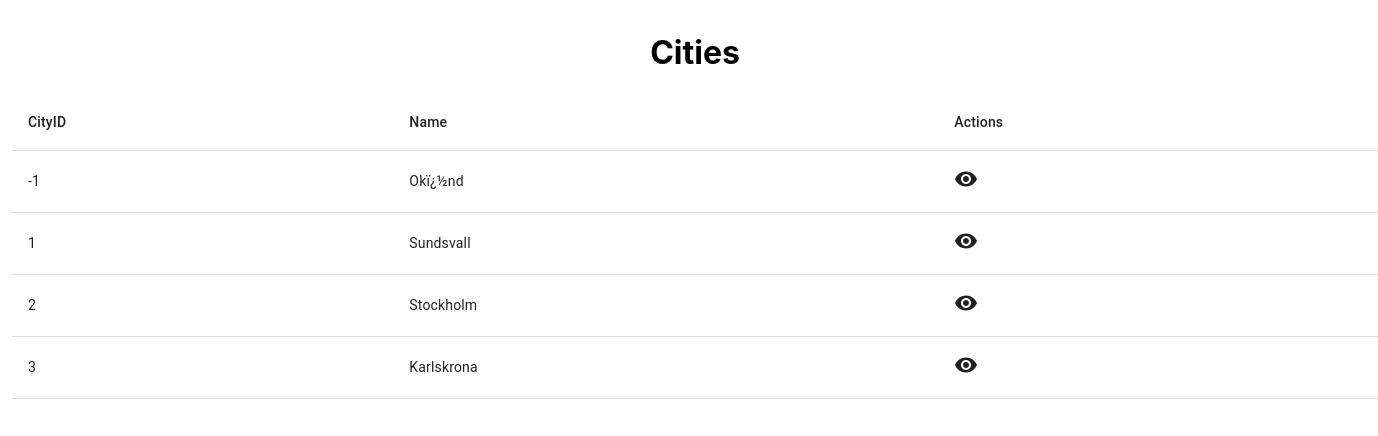
Scenario: Get scooters › Loading cities
The image size is (1378, 436).
Expected: the text "Sundsvall" is shown, [393,212,938,274]
Click the icon with test id "VisibilityIcon" in the row of "-1": point(966, 179) [954,167,978,191]
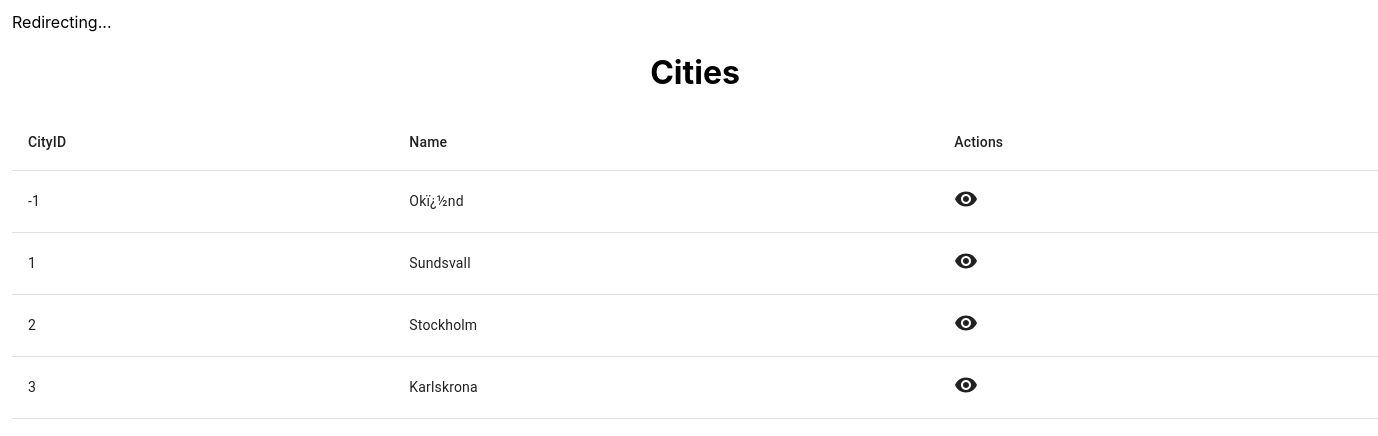
Expected: the text "Redirecting..." is shown, [12,12,112,32]
